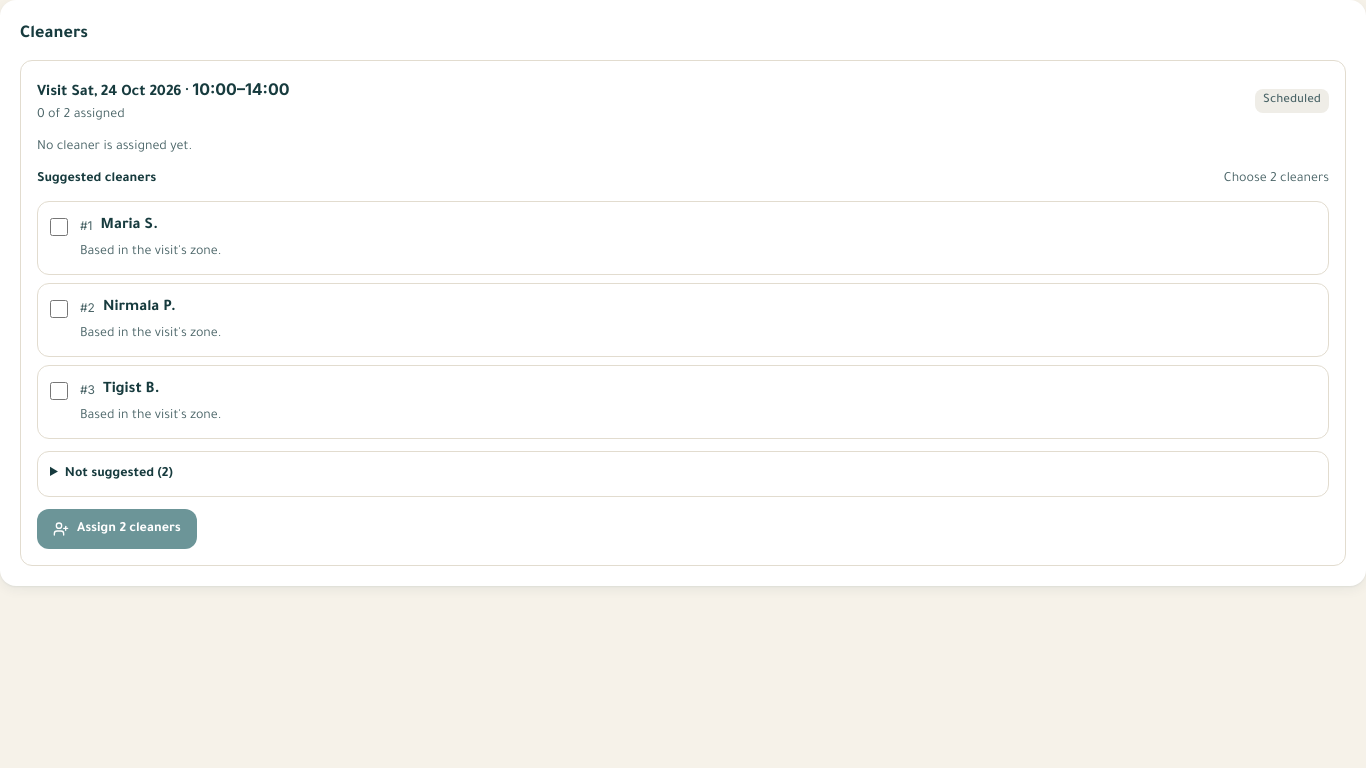
assignment panel (§8.5–§8.7) › says who can override when the API answers OVERRIDE_REQUIRED, and that a busy cleaner never can
Step 1. Click the checkbox named "Assign Maria S." → click(59, 227), box [50,218,68,236]
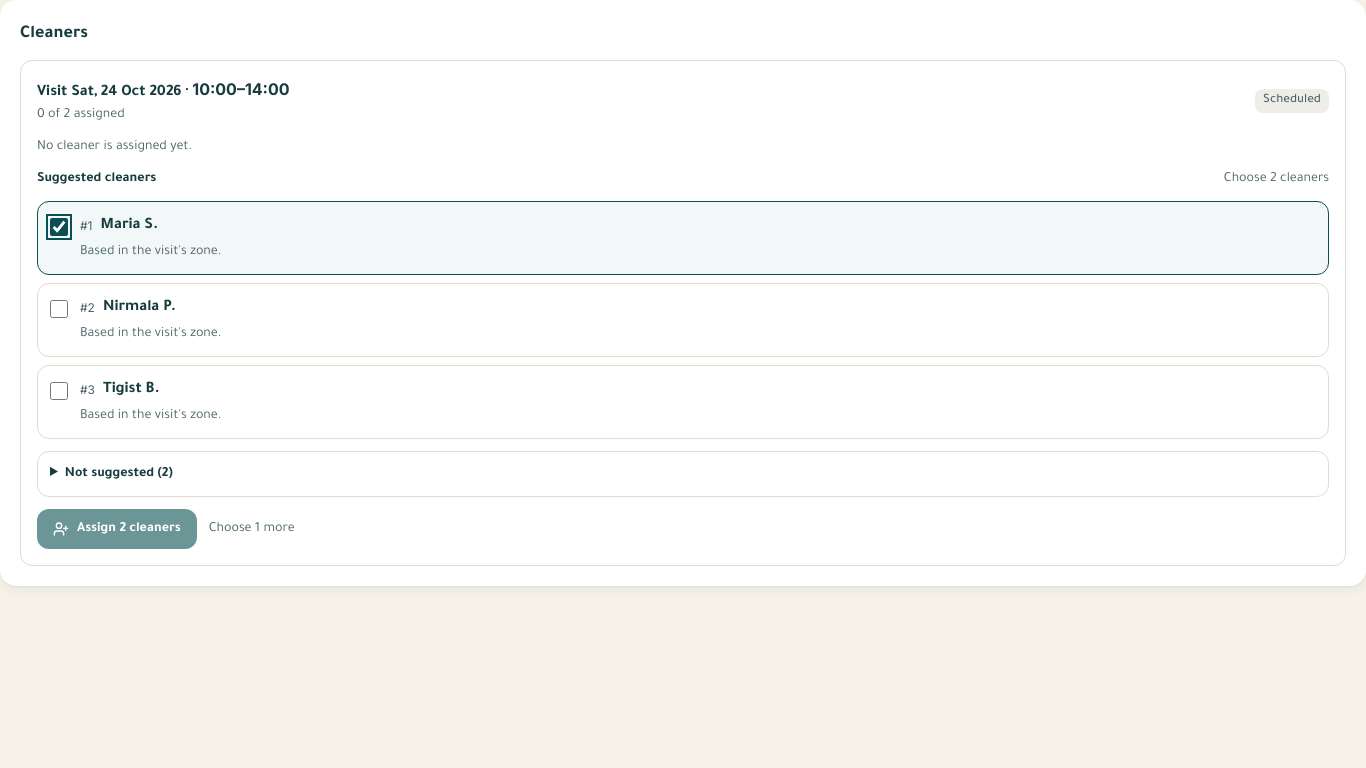
Step 2. Click the checkbox named "Assign Nirmala P." → click(59, 309), box [50,300,68,318]
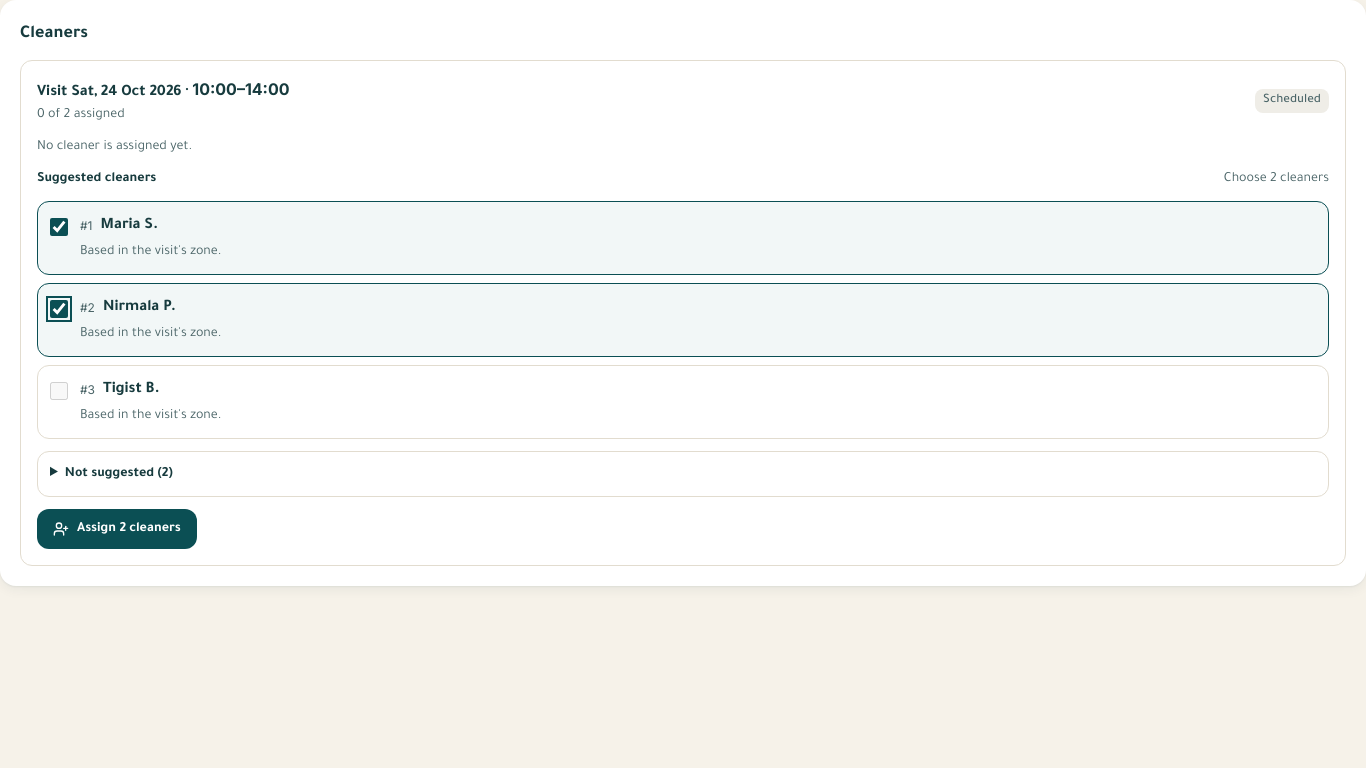
Step 3. Click the button "Assign 2 cleaners" → click(117, 529), box [37,509,197,549]
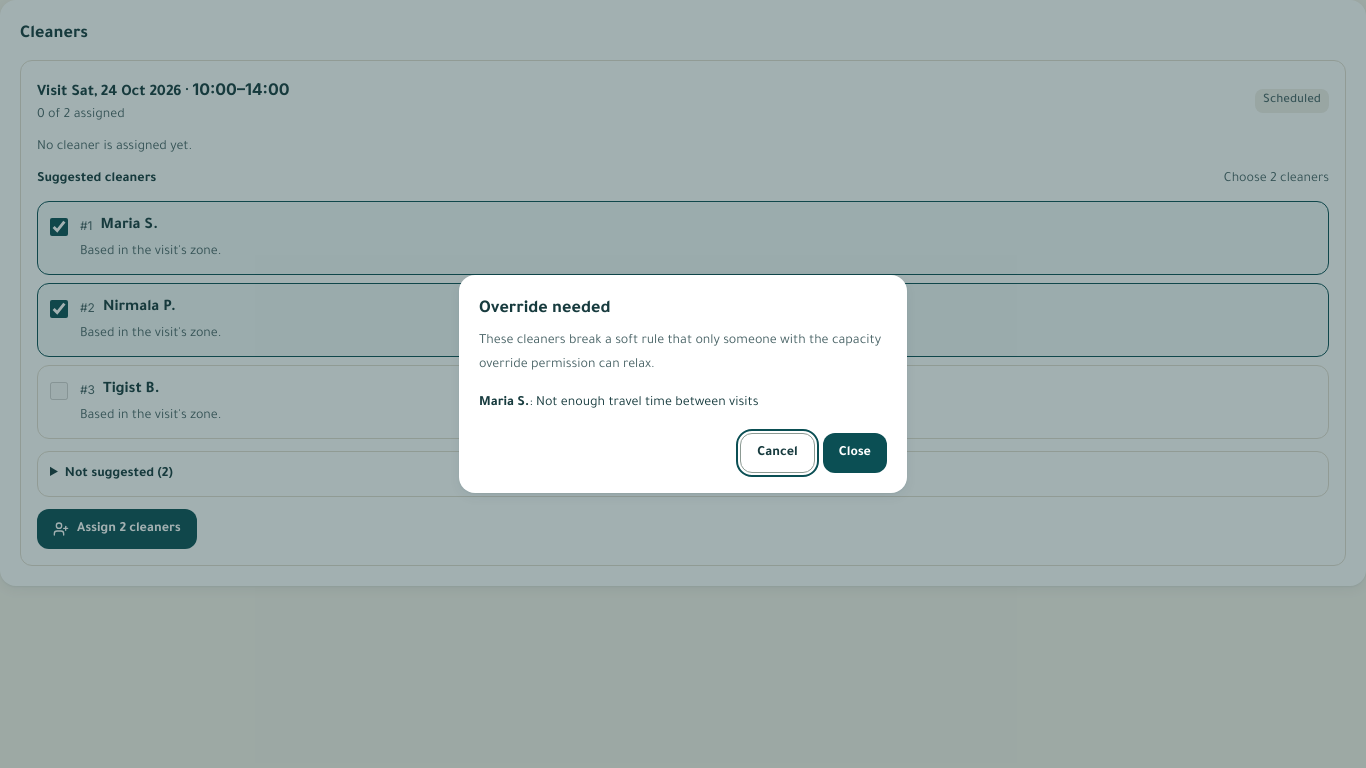
Check: the dialog "Override needed" shows "Maria S.: Not enough travel time between visits", box [459,275,907,493]
Check: the dialog "Override needed" shows "only someone with the capacity override permission can relax", box [479,334,881,372]
Step 4. Click the button "Close" → click(855, 453), box [823,433,887,473]
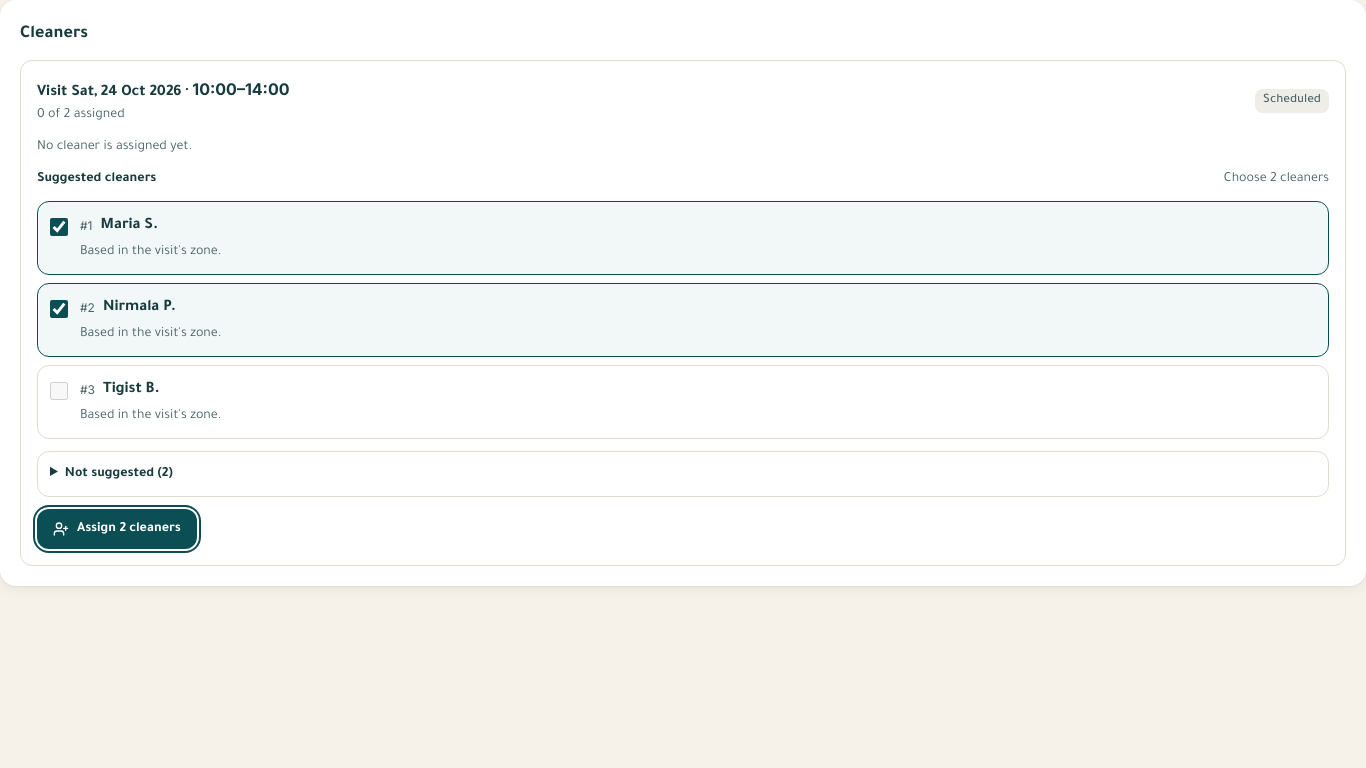
Step 5. Click the button "Assign 2 cleaners" → click(117, 529), box [37,509,197,549]
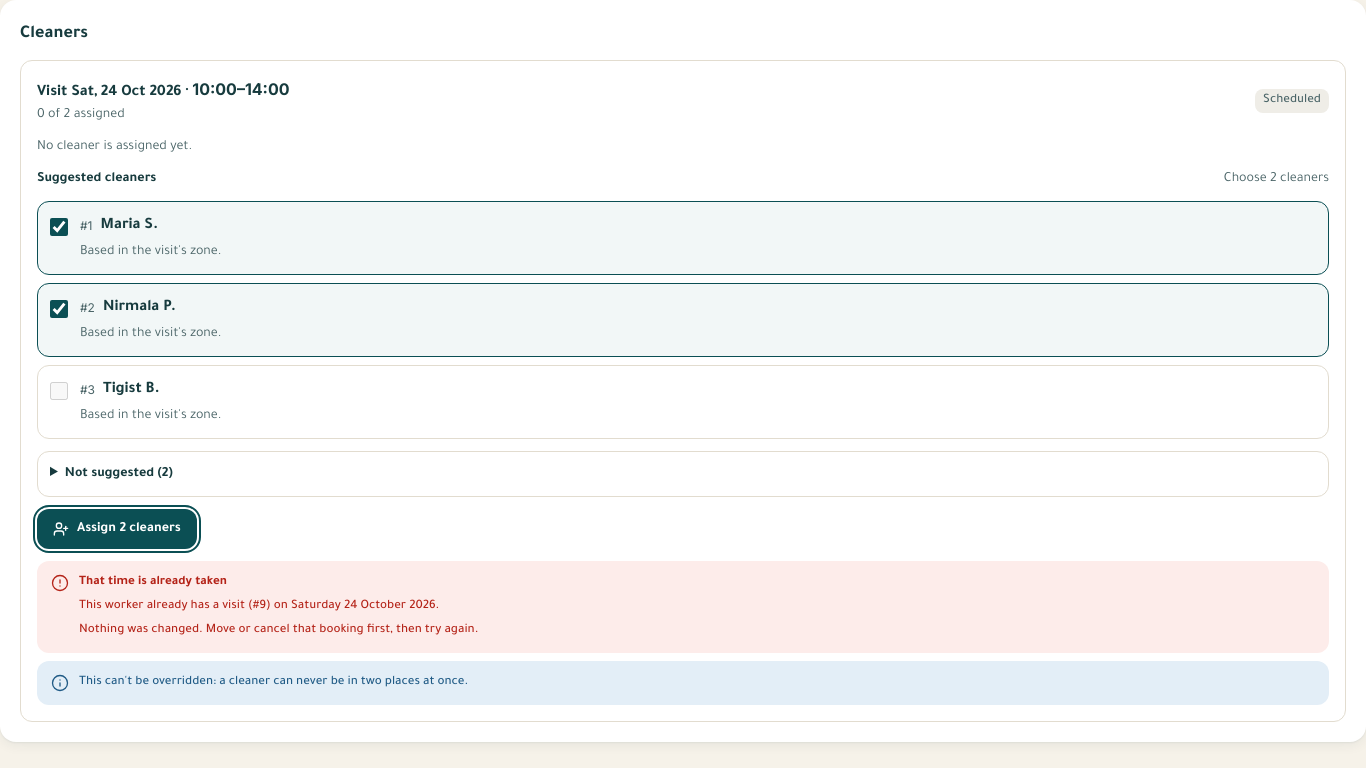
Check: the text "This can't be overridden: a cleaner can never be in two places at once." is shown, box [79,676,468,689]
